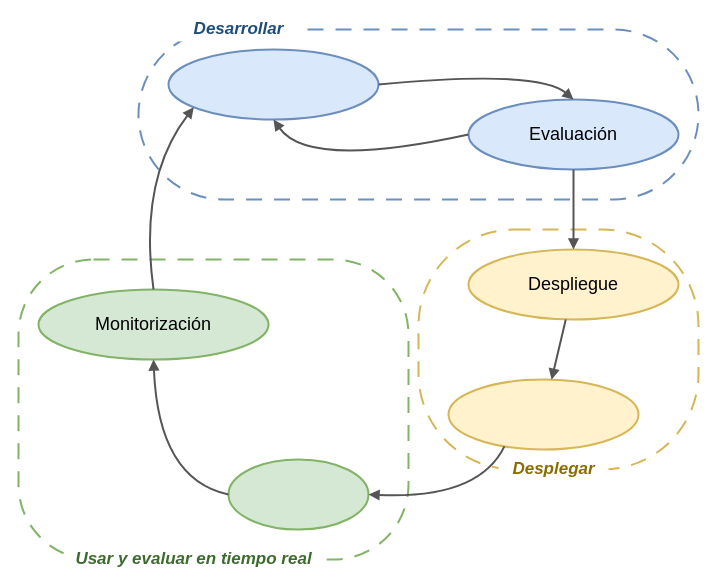
This 716x588 diagram has some shape labels left out. Each missing label, with the centre of its shape:
"Desarrollo" belongs at (x=273, y=84).
"Ingesta" belongs at (x=543, y=414).
"Uso" belongs at (x=298, y=494).
